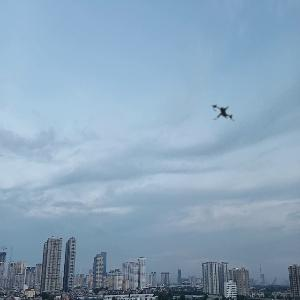drone: (201, 92, 248, 139)
